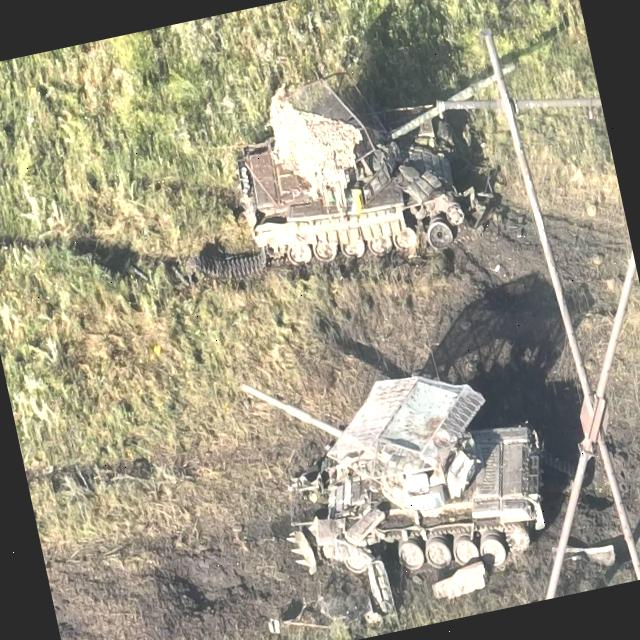MBT: (240, 332, 563, 601), (198, 61, 544, 290)
